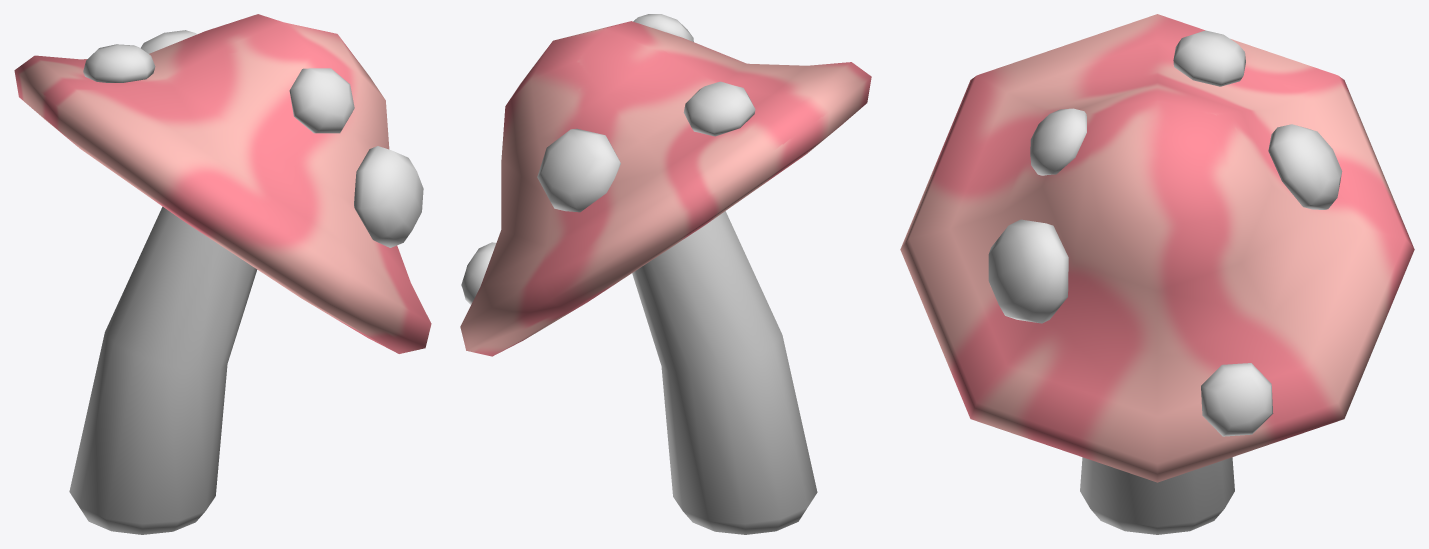
Rendered from MushroomTex_Textures_001.fbx.
3 renders of one model, left to right at view 1: azimuth 30°, elevation 25°; view 2: azimuth 150°, elevation 25°; view 3: azimuth 270°, elevation 25°, orthographic. The views are drawn at different scales.
Visible parts, largest first — view 1: Mushroom, Mushroom stem, Point.003, Point.004, Point, Point.001; view 2: Mushroom, Mushroom stem, Point.001, Point, Point.002, Point.004; view 3: Mushroom, Mushroom stem, Point.003, Point.001, Point.002, Point, Point.004.
Part boxes in pixels (x1=…): Mushroom: x1=14, y1=14, x2=431, y2=353; Mushroom stem: x1=69, y1=206, x2=257, y2=534; Point.003: x1=354, y1=146, x2=423, y2=247; Point.004: x1=289, y1=68, x2=354, y2=133; Point: x1=83, y1=44, x2=155, y2=82; Point.001: x1=141, y1=30, x2=196, y2=53; Mushroom: x1=460, y1=21, x2=871, y2=356; Mushroom stem: x1=632, y1=211, x2=817, y2=534; Point.001: x1=537, y1=128, x2=620, y2=212; Point: x1=683, y1=81, x2=755, y2=136; Point.002: x1=461, y1=242, x2=496, y2=304; Point.004: x1=633, y1=14, x2=693, y2=41; Mushroom: x1=900, y1=14, x2=1414, y2=482; Mushroom stem: x1=1080, y1=457, x2=1234, y2=534; Point.003: x1=988, y1=219, x2=1068, y2=323; Point.001: x1=1268, y1=124, x2=1342, y2=209; Point.002: x1=1201, y1=363, x2=1273, y2=436; Point: x1=1173, y1=30, x2=1245, y2=86; Point.004: x1=1030, y1=108, x2=1086, y2=175.
Size of the model in its own units: 267 by 354 by 340.
